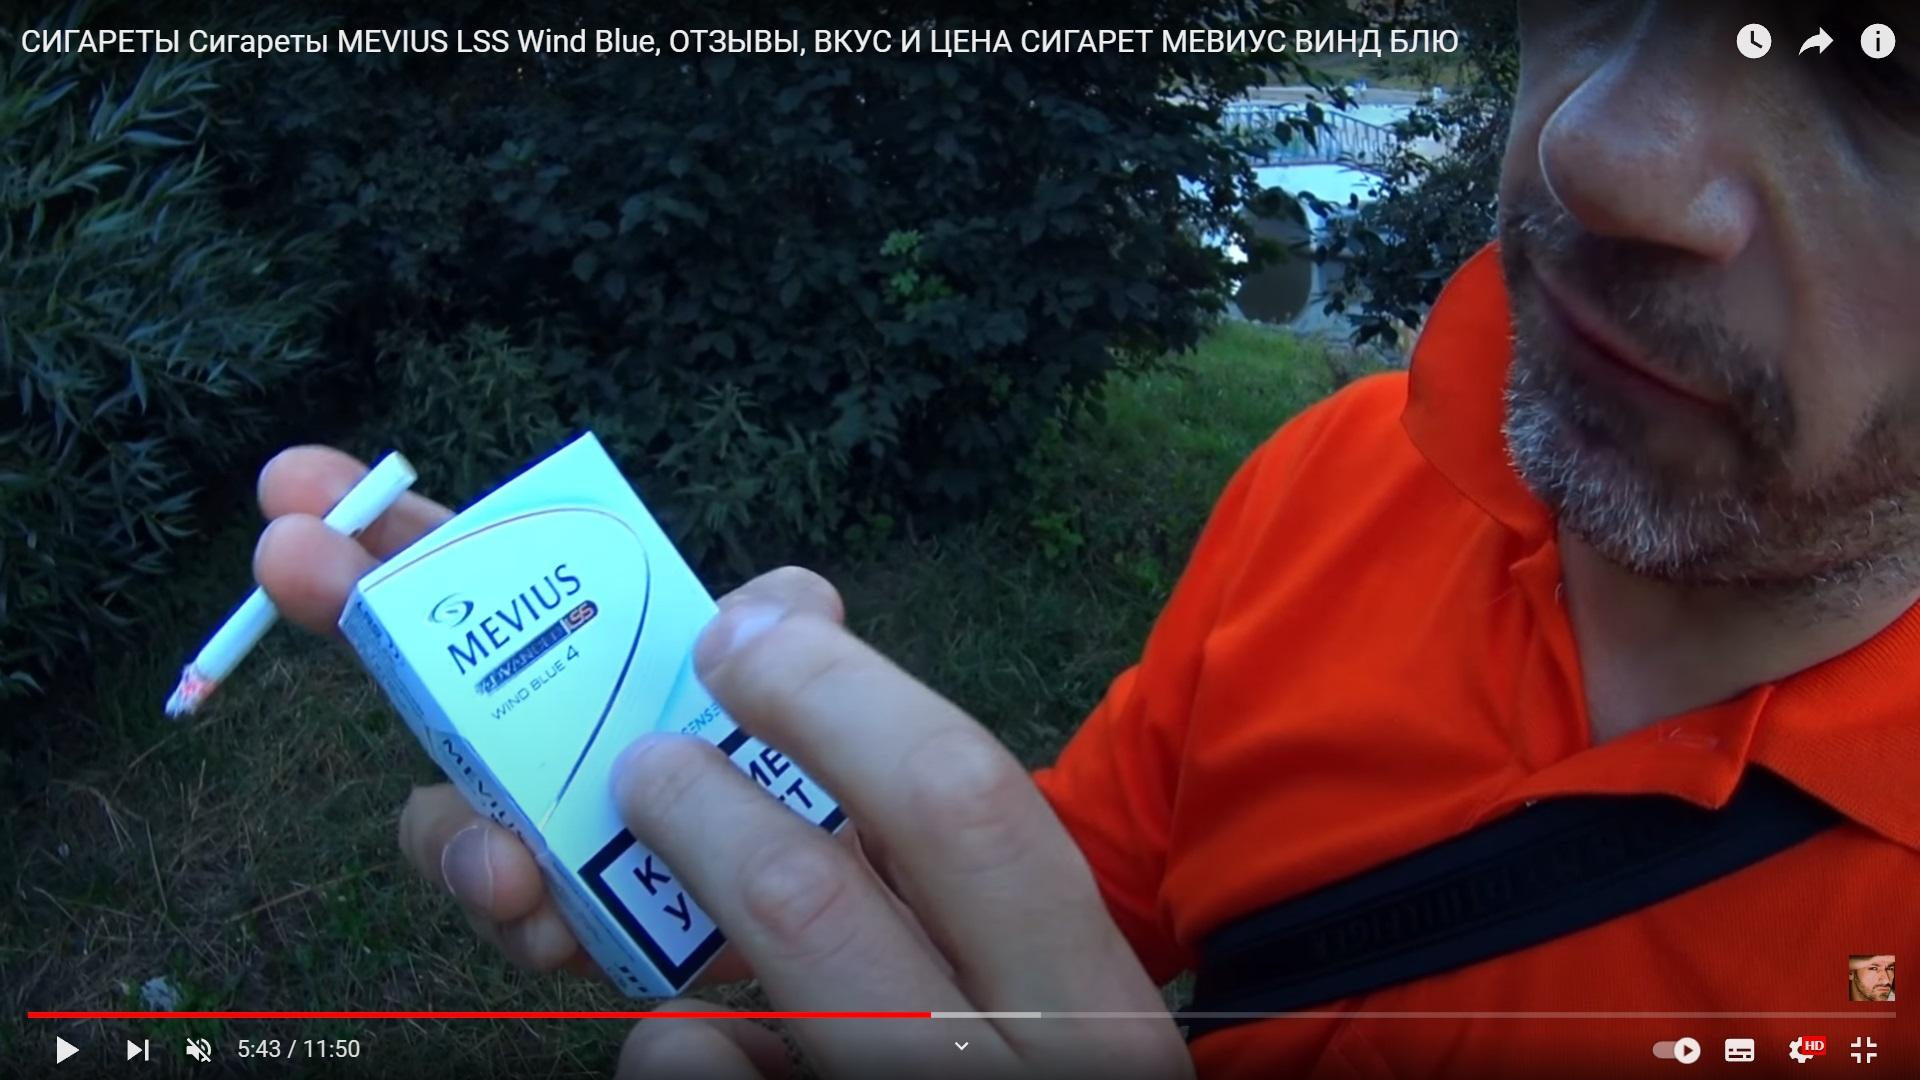cigarette: (164, 451, 419, 724)
